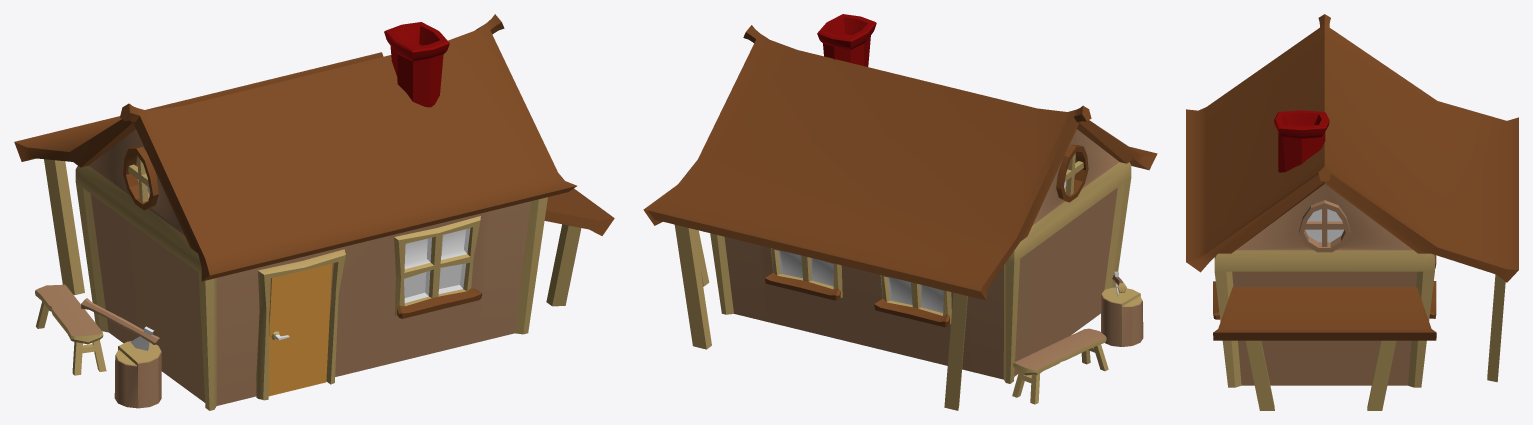
Rendered from ForesterHouse.fbx.
3 renders of one model, left to right at view 1: azimuth 30°, elevation 25°; view 2: azimuth 150°, elevation 25°; view 3: azimuth 270°, elevation 25°, orthographic. The views are drawn at different scales.
Parts seen in each view (by area): view 1: ForesterHouse_Cube.006; view 2: ForesterHouse_Cube.006; view 3: ForesterHouse_Cube.006.
Part boxes in pixels (bbox=[...]): ForesterHouse_Cube.006: bbox=[14, 14, 614, 410]; ForesterHouse_Cube.006: bbox=[643, 14, 1157, 410]; ForesterHouse_Cube.006: bbox=[1186, 14, 1518, 410].
Size of the model in its own units: 591 by 340 by 428.
